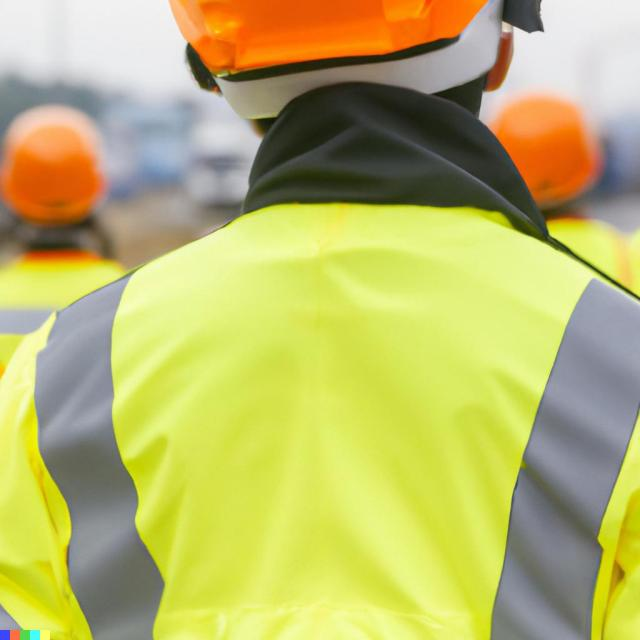Reflective-Jacket: (30, 180, 630, 636)
Safety-Helmet: (157, 0, 520, 74)
